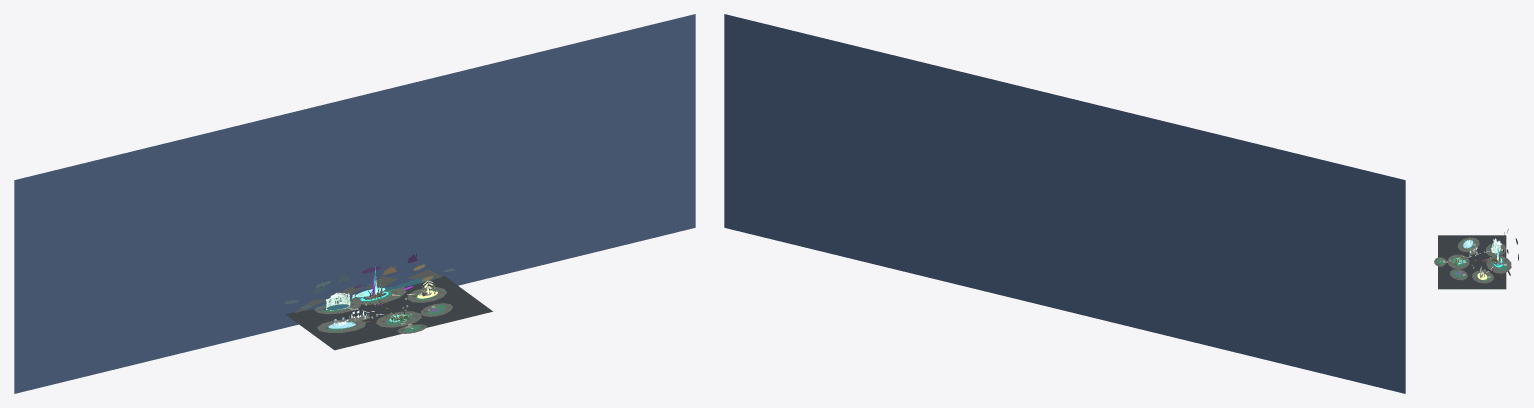
Rendered from memory_wastes_visual_benchmark_v002.glb.
3 views of the same model, side by side, from view 1: azimuth 30°, elevation 25°; view 2: azimuth 150°, elevation 25°; view 3: azimuth 270°, elevation 25° (orthographic). The views are drawn at different scales.
Visible parts, largest first — view 1: WASTE_Terrain_Backdrop_MemoryStormSky, WASTE_Terrain_DarkVoidBase_NoWalk, WASTE_Terrain_BackgroundLayeredBrokenHorizon_00; view 2: WASTE_Terrain_Backdrop_MemoryStormSky; view 3: WASTE_Terrain_DarkVoidBase_NoWalk, WASTE_Terrain_WorldrootSheddingRiftIsland_FragmentedPlate, WASTE_Terrain_CentralSylvaenCampIsland_FragmentedPlate, WASTE_Terrain_DeadGodShrineIsland_FragmentedPlate, WASTE_Terrain_EchoBattlefieldIsland_FragmentedPlate, WASTE_Terrain_OranynRuinIsland_FragmentedPlate, WASTE_Terrain_SideRootRiftIsland_FragmentedPlate.
Part boxes in pixels (x1,y1,x2,y2): WASTE_Terrain_Backdrop_MemoryStormSky: (14,14,695,393); WASTE_Terrain_DarkVoidBase_NoWalk: (285,275,492,350); WASTE_Terrain_BackgroundLayeredBrokenHorizon_00: (295,269,442,312); WASTE_Terrain_Backdrop_MemoryStormSky: (724,14,1405,393); WASTE_Terrain_DarkVoidBase_NoWalk: (1438,235,1506,289); WASTE_Terrain_WorldrootSheddingRiftIsland_FragmentedPlate: (1486,256,1511,273); WASTE_Terrain_CentralSylvaenCampIsland_FragmentedPlate: (1447,254,1469,269); WASTE_Terrain_DeadGodShrineIsland_FragmentedPlate: (1472,270,1493,283); WASTE_Terrain_EchoBattlefieldIsland_FragmentedPlate: (1457,237,1479,251); WASTE_Terrain_OranynRuinIsland_FragmentedPlate: (1486,242,1506,256); WASTE_Terrain_SideRootRiftIsland_FragmentedPlate: (1450,269,1467,280).
Bounding box in the file's own units: 360 × 108 × 56.49.
